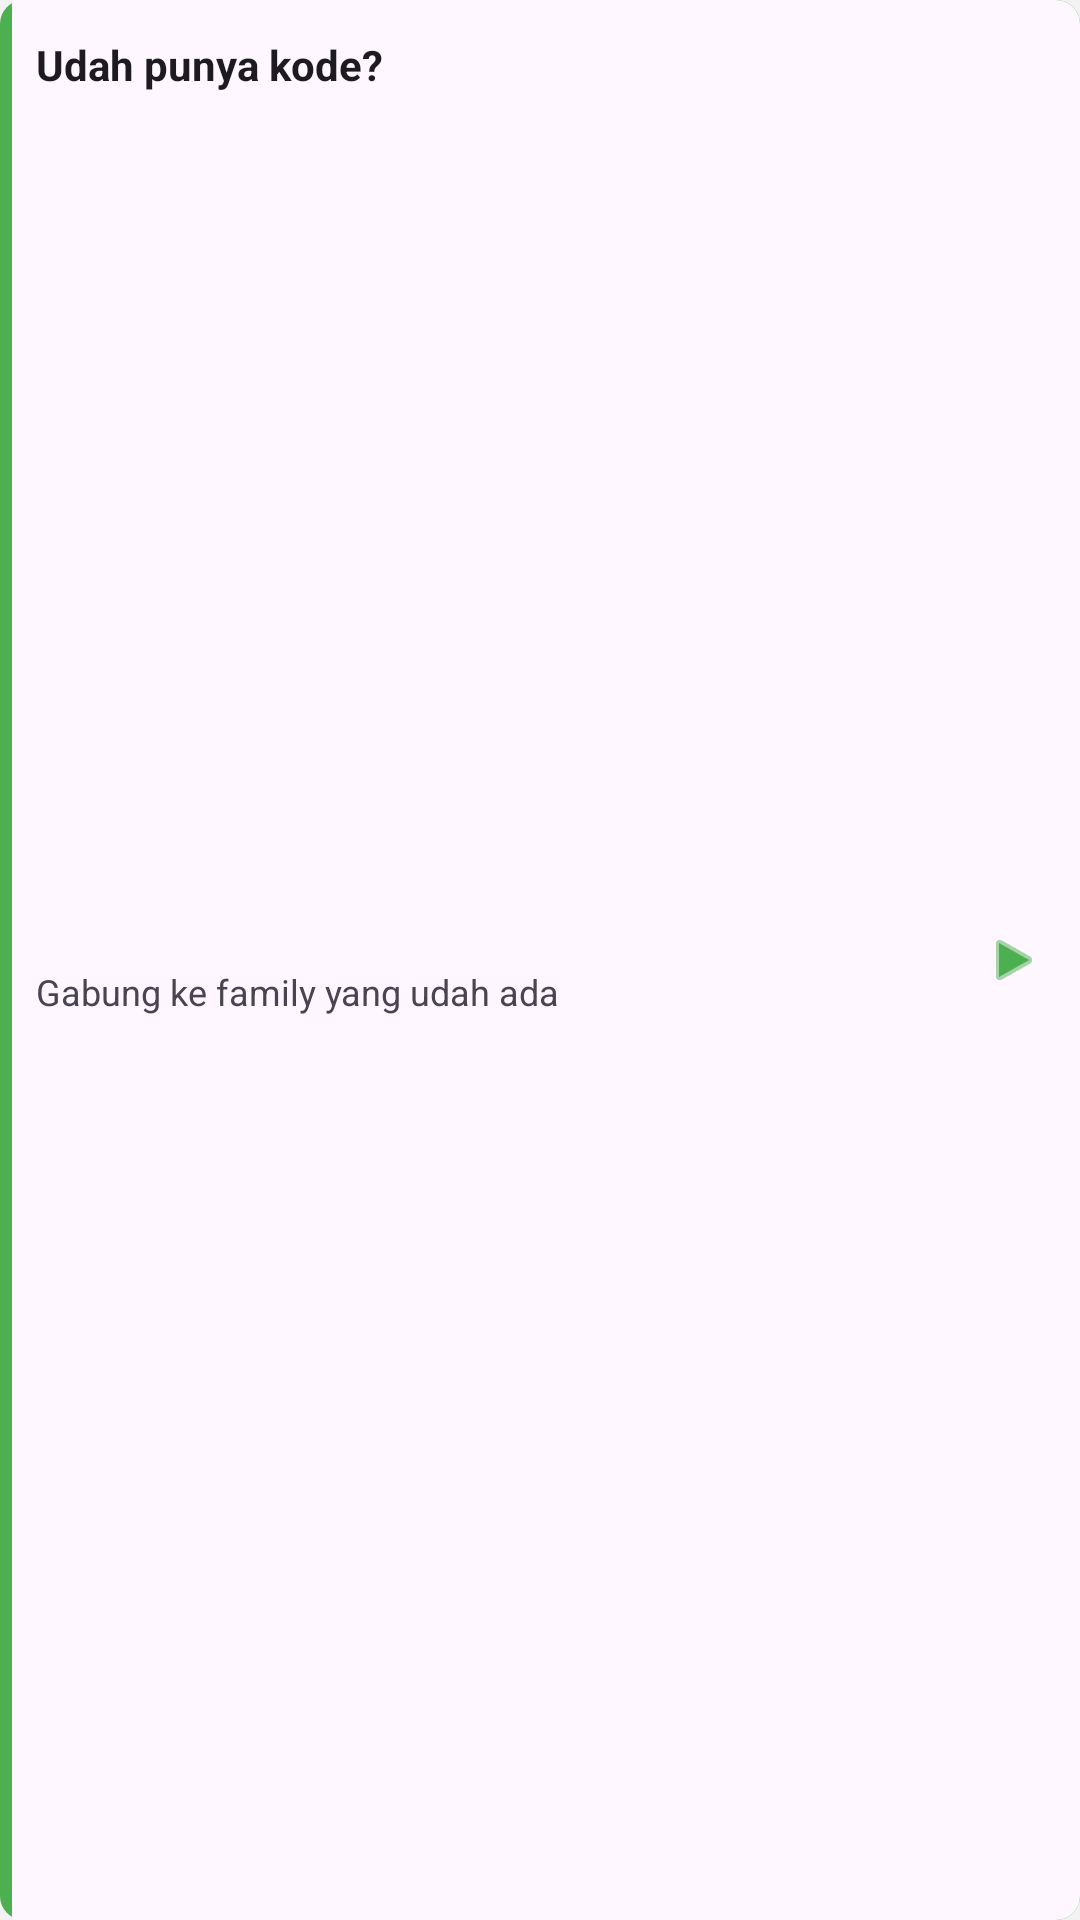

Screen size 1080 × 1920. Icon name, then its box in pixels as (x1, y1, x2, y2):
play: (996, 940, 1032, 980)
